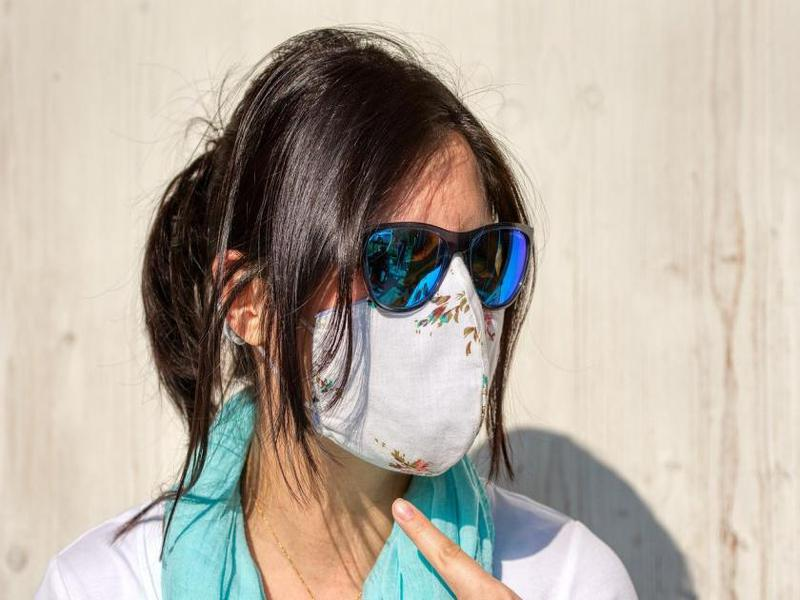with_mask: (206, 48, 497, 478)
